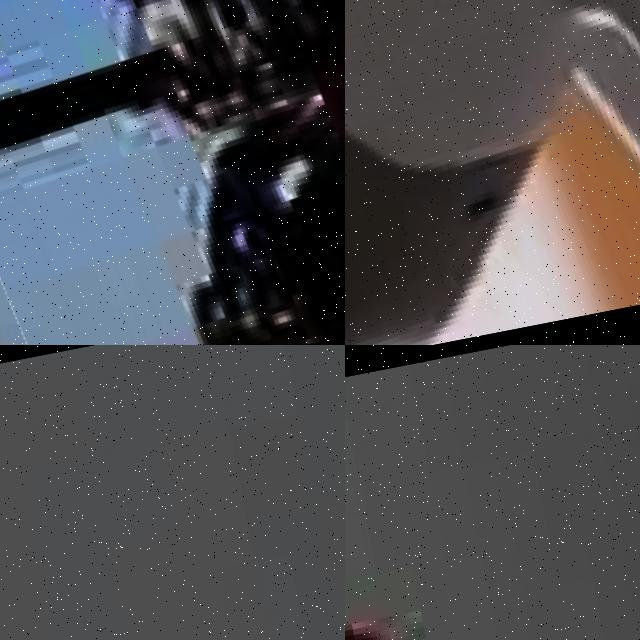0: (0, 0, 345, 345)
drone: (345, 0, 640, 345)
